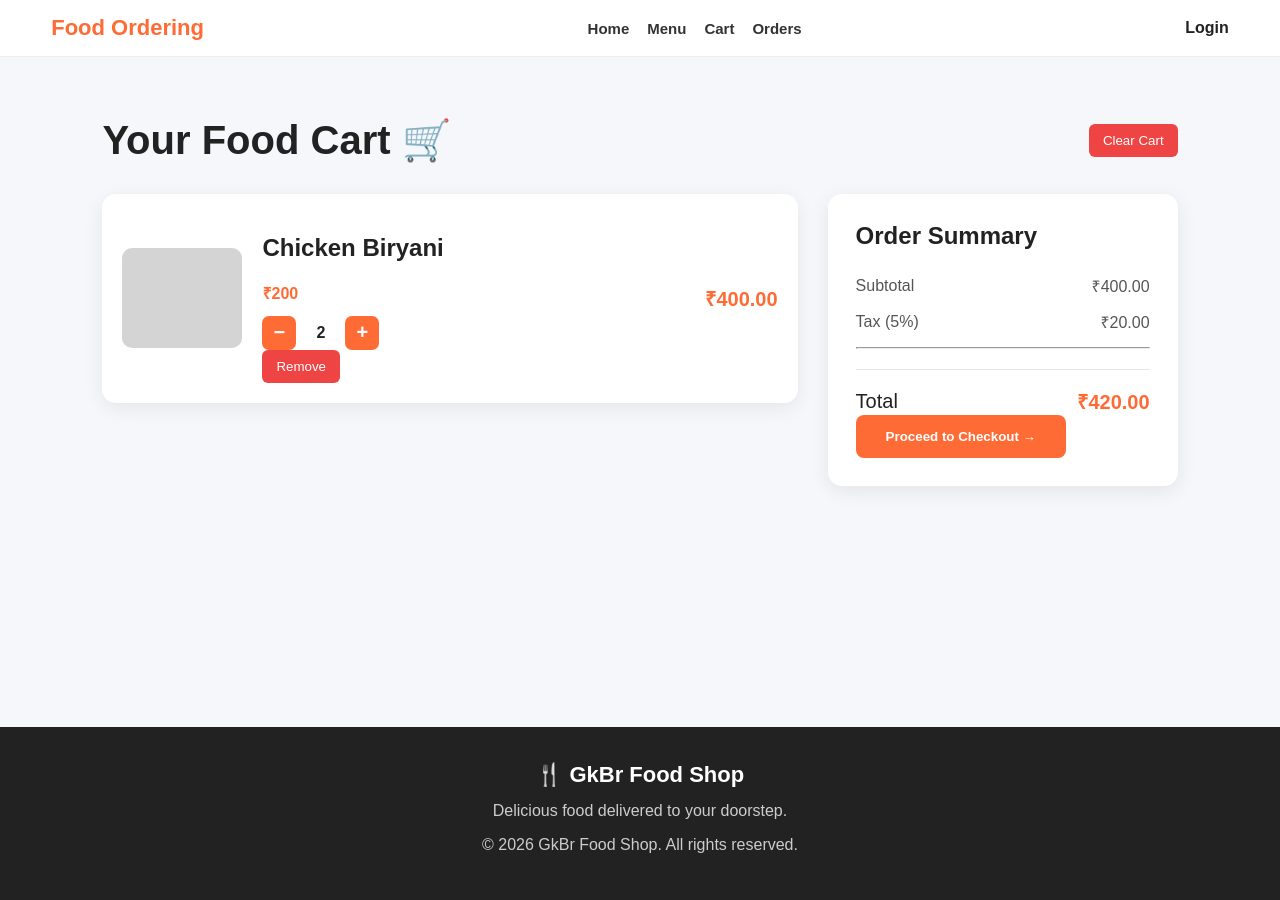
Test: Cart Component › increases quantity using accessible button
Click the button named "Increase quantity of Chicken Biryani" at (362, 333), box [345,316,379,350]
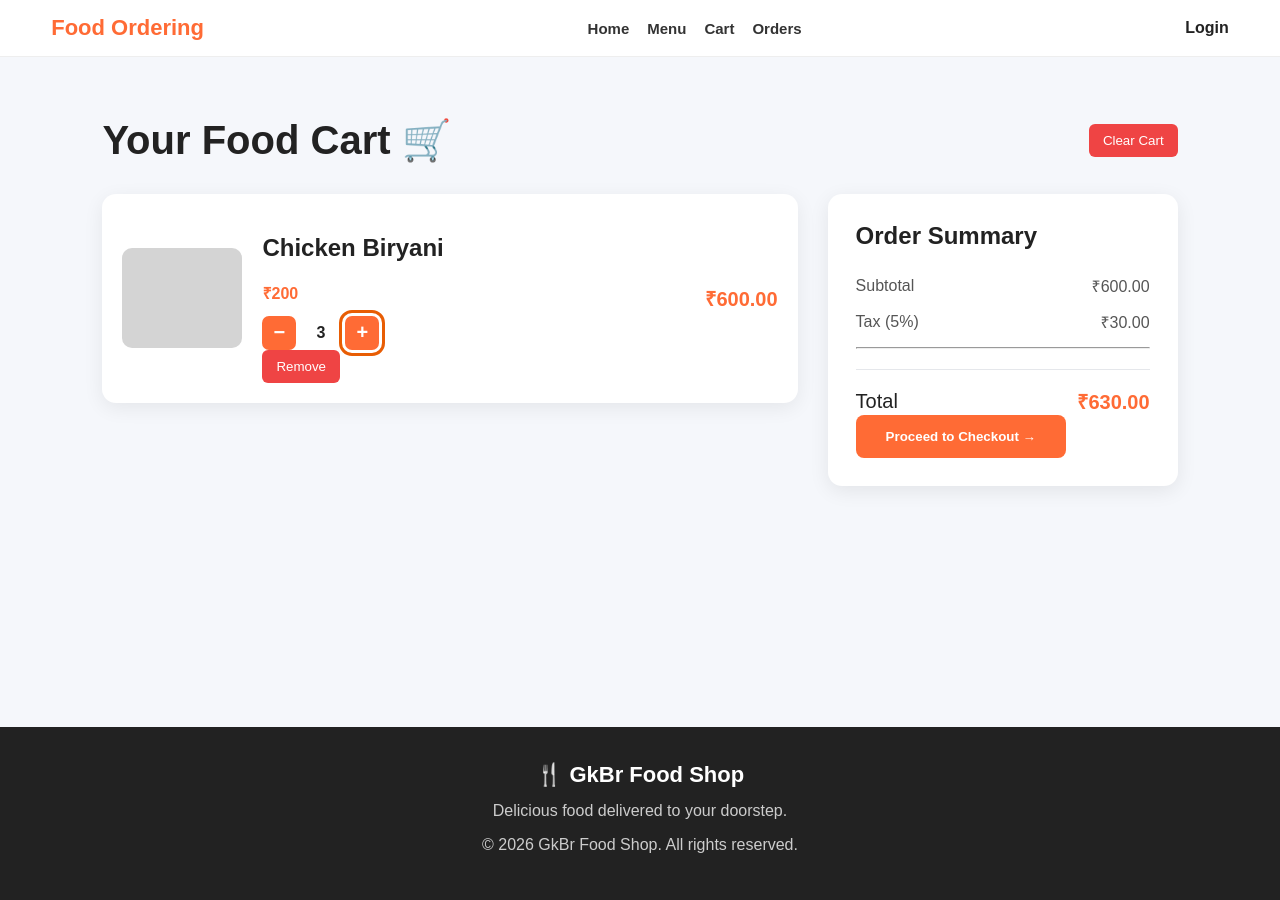
Now the text named "Quantity 3" is shown, box [316,324,325,341]
